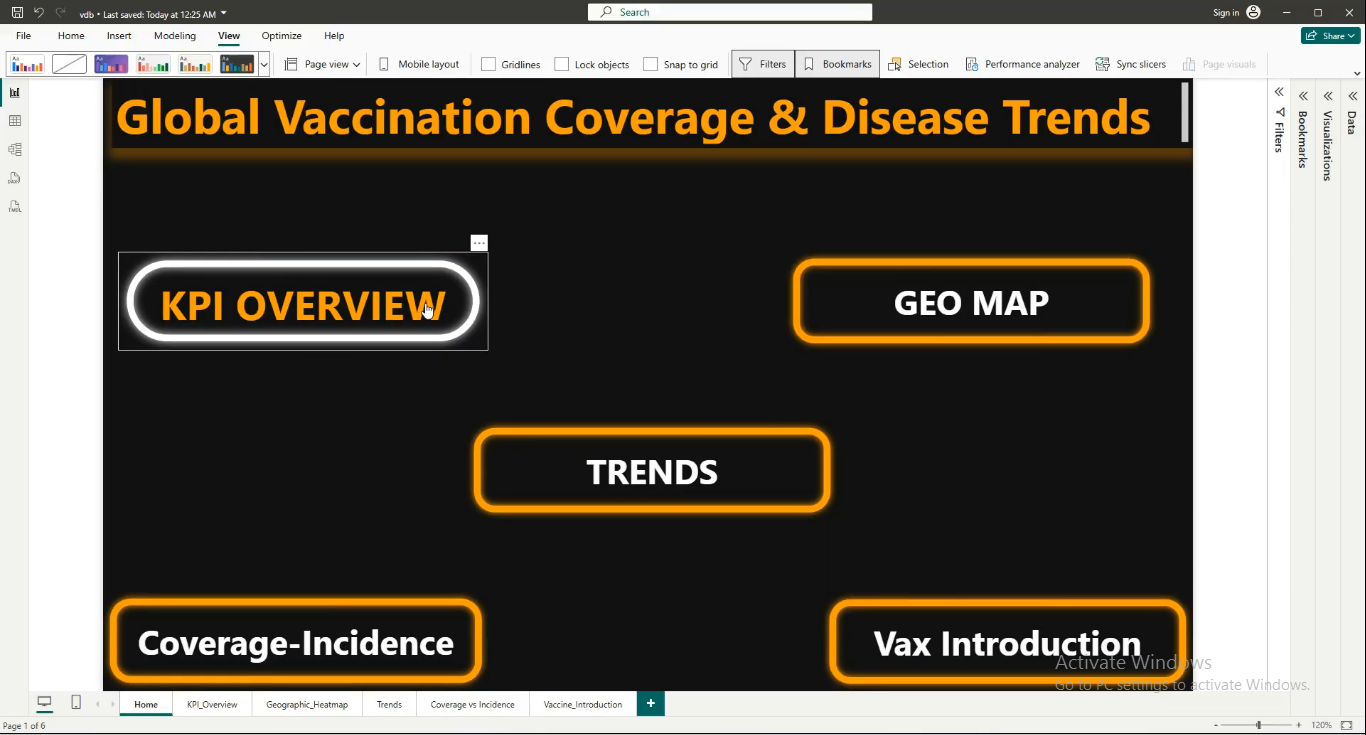

Layout of this report page (visuals, bound fields, positions):
{"tool":"powerbi","page":{"name":"Home","canvas":[1280,720],"ordinal":0},"visuals":[{"type":"textbox","box":[10.3,0,1269.7,82.4],"z":0},{"type":"actionButton","box":[17.3,204,435,115.5],"z":1000},{"type":"actionButton","box":[802.6,204,435,115.5],"z":2000},{"type":"actionButton","box":[427.7,402.5,435,115.5],"z":3000},{"type":"actionButton","box":[0,602.9,453,115.2],"z":4000},{"type":"actionButton","box":[845.5,604,435,115.5],"z":5000}]}

Visuals, with their boxes on the page's 1280x720 design canvas (x1, y1, x2, y2). These are canvas units, not pixel positions in the 1366x735 screenshot, which may show the page scaled, cropped or inside an application window:
textbox: (x1=10, y1=0, x2=1280, y2=82)
actionButton: (x1=17, y1=204, x2=452, y2=320)
actionButton: (x1=803, y1=204, x2=1238, y2=320)
actionButton: (x1=428, y1=402, x2=863, y2=518)
actionButton: (x1=0, y1=603, x2=453, y2=718)
actionButton: (x1=846, y1=604, x2=1280, y2=720)
